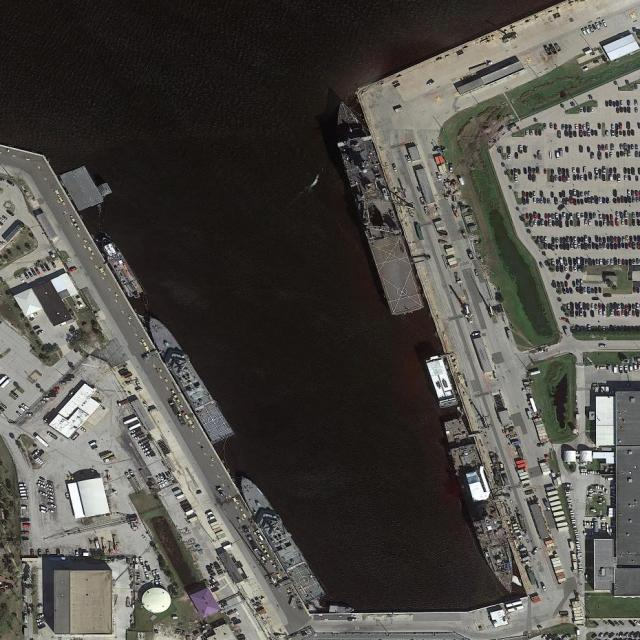Destroyer: (233, 469, 328, 607), (142, 310, 235, 447)
Landing: (322, 92, 429, 321)
Other Ship: (96, 233, 147, 303)
Other Warship: (440, 414, 522, 602), (328, 606, 354, 612)
